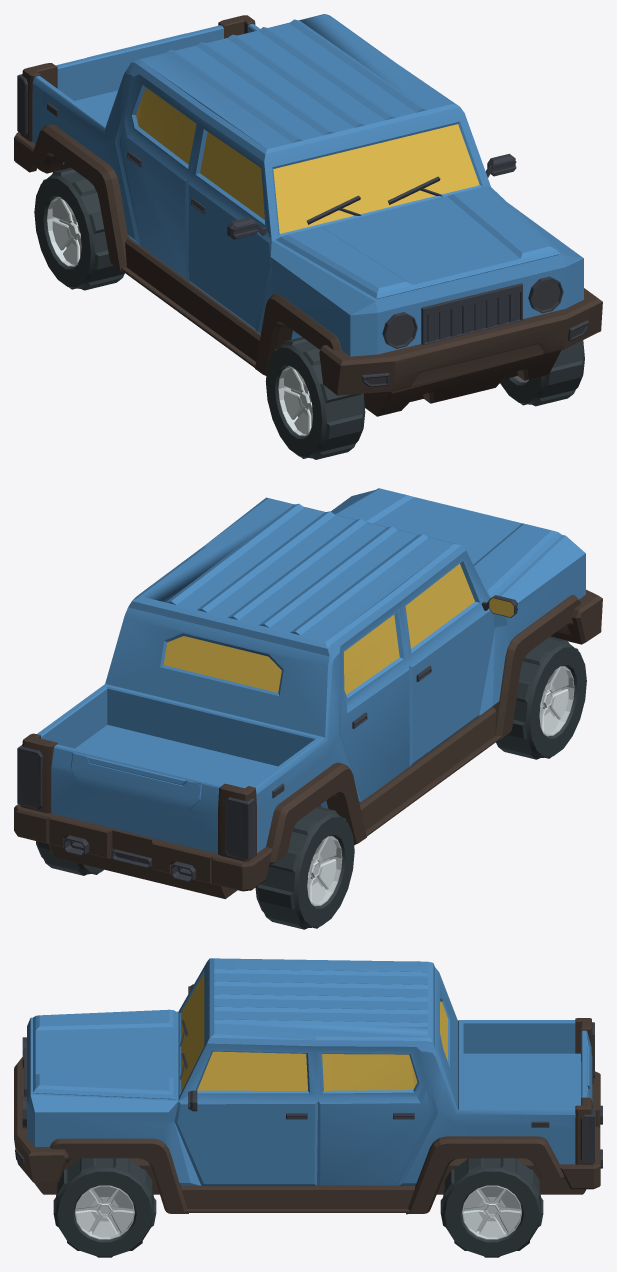
Rendered from car_06.gltf.
The picture shows the model from 3 angles, top to bottom: view 1: azimuth 30°, elevation 25°; view 2: azimuth 150°, elevation 25°; view 3: azimuth 270°, elevation 25°; orthographic projection. The views are drawn at different scales.
Visible parts, largest first — view 1: body, wheel_26, wheel_14, wheel_24, wheel_12, wheel_21; view 2: body, wheel_14, wheel_26, wheel_12, wheel_24; view 3: body, wheel_20, wheel_32, wheel_18, wheel_30, wheel_31, wheel_19.
Boxes of the visible parts, x1,y1,x2,y2 form: body: (14,14,602,459); wheel_26: (34,178,90,287); wheel_14: (265,347,322,456); wheel_24: (42,175,95,288); wheel_12: (273,344,326,458); wheel_21: (500,377,541,403); body: (14,488,602,929); wheel_14: (530,647,586,756); wheel_26: (298,817,354,926); wheel_12: (525,644,579,757); wheel_24: (293,814,346,927); body: (14,958,602,1257); wheel_20: (57,1171,151,1255); wheel_32: (445,1171,539,1255); wheel_18: (55,1168,153,1256); wheel_30: (443,1168,541,1256); wheel_31: (460,1185,523,1242); wheel_19: (73,1185,136,1242).
Size of the model in its own units: 2.38 by 2.02 by 5.09.
Materials: 1 (1 with a texture image).
